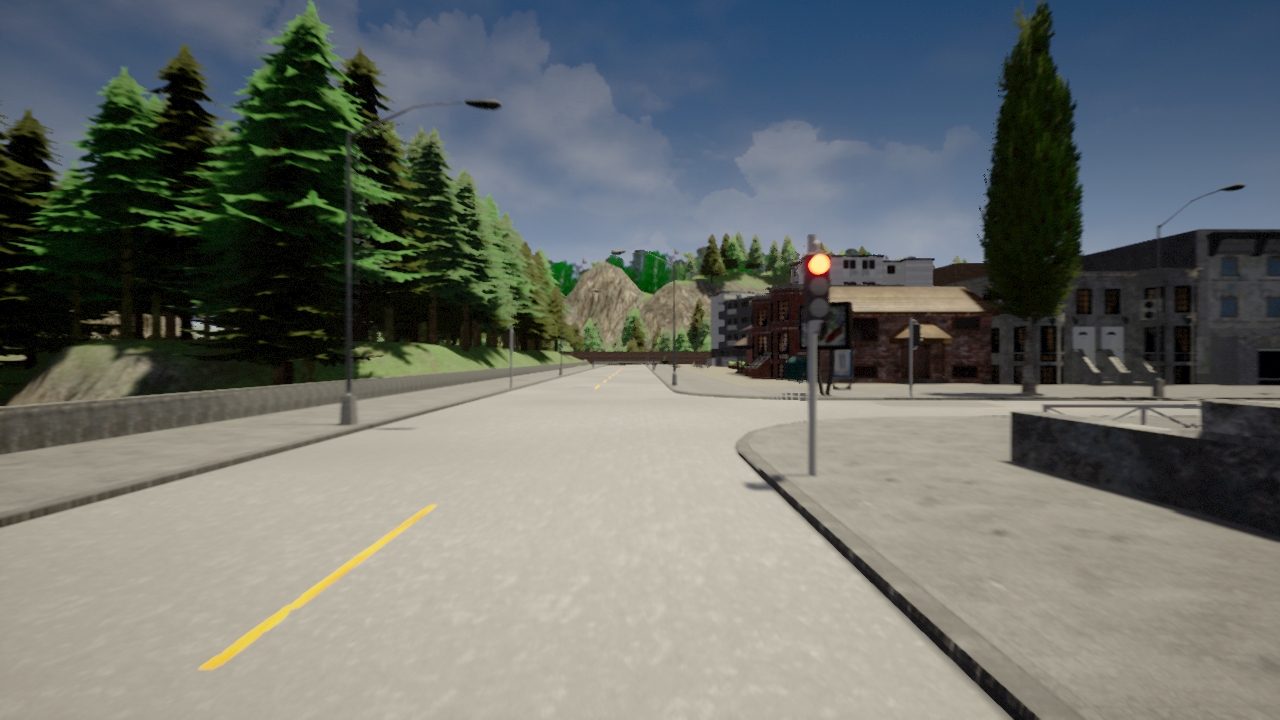red: (802, 250, 831, 322)
